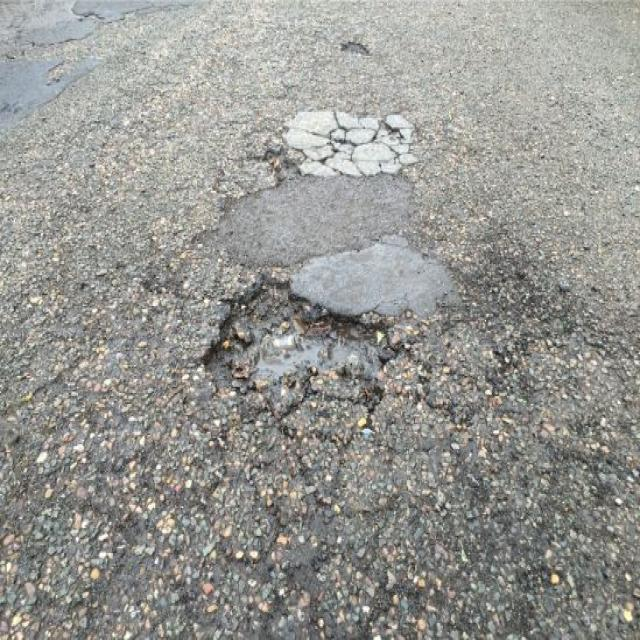pothole: (196, 272, 402, 419)
